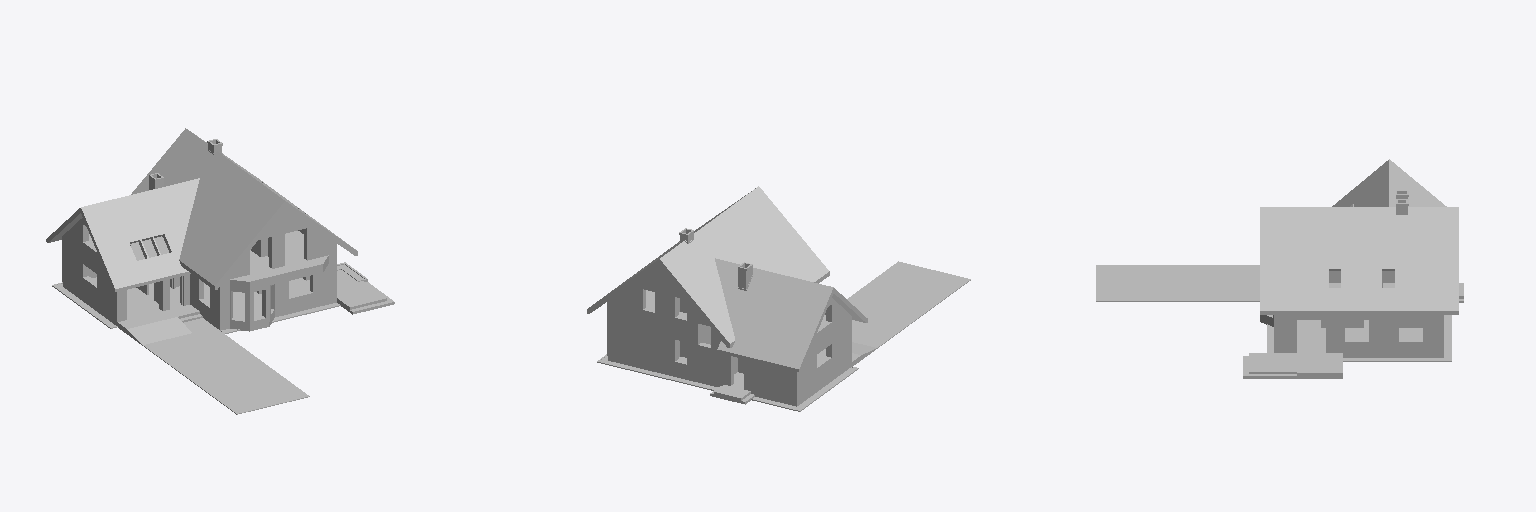
Rendered from house_foundation2.obj.
The picture shows the model from 3 angles: view 1: azimuth 30°, elevation 25°; view 2: azimuth 150°, elevation 25°; view 3: azimuth 270°, elevation 25°; orthographic projection.
Parts seen in each view (by area): view 1: roof_Cube.002, wall_exterior_Plane.001, ground_around_house_Plane.039, roof.001_Cube.003, balcony_Cube.004, terrace_Plane.038, walls.002_Cube, floor.011_Plane.013, floor.009_Plane.003, floor.017_Plane.019; view 2: wall_exterior_Plane.001, roof_Cube.002, roof.001_Cube.003, ground_around_house_Plane.039, walls.002_Cube, chimney.002_Cube.098; view 3: roof_Cube.002, ground_around_house_Plane.039, wall_exterior_Plane.001, roof.001_Cube.003, terrace_Plane.038, flower_pot_Cube.005, floor_Plane.011.
Boxes of the visible parts, <box> form: roof_Cube.002: <box>131,128,357,289</box>; wall_exterior_Plane.001: <box>62,208,336,331</box>; ground_around_house_Plane.039: <box>52,282,340,414</box>; roof.001_Cube.003: <box>46,178,199,291</box>; balcony_Cube.004: <box>230,255,328,290</box>; terrace_Plane.038: <box>337,270,394,314</box>; walls.002_Cube: <box>85,266,311,320</box>; floor.011_Plane.013: <box>92,277,160,318</box>; floor.009_Plane.003: <box>285,231,305,264</box>; floor.017_Plane.019: <box>204,289,261,318</box>; wall_exterior_Plane.001: <box>607,266,851,406</box>; roof_Cube.002: <box>587,186,829,347</box>; roof.001_Cube.003: <box>715,258,867,371</box>; ground_around_house_Plane.039: <box>597,261,970,411</box>; walls.002_Cube: <box>676,326,829,383</box>; chimney.002_Cube.098: <box>679,228,752,290</box>; roof_Cube.002: <box>1260,207,1458,314</box>; ground_around_house_Plane.039: <box>1096,265,1463,361</box>; wall_exterior_Plane.001: <box>1260,315,1443,357</box>; roof.001_Cube.003: <box>1332,159,1446,206</box>; terrace_Plane.038: <box>1243,352,1330,378</box>; flower_pot_Cube.005: <box>1297,353,1342,378</box>; floor_Plane.011: <box>1297,327,1320,351</box>.
Size of the model in its own units: 17.5 by 8.92 by 23.19.